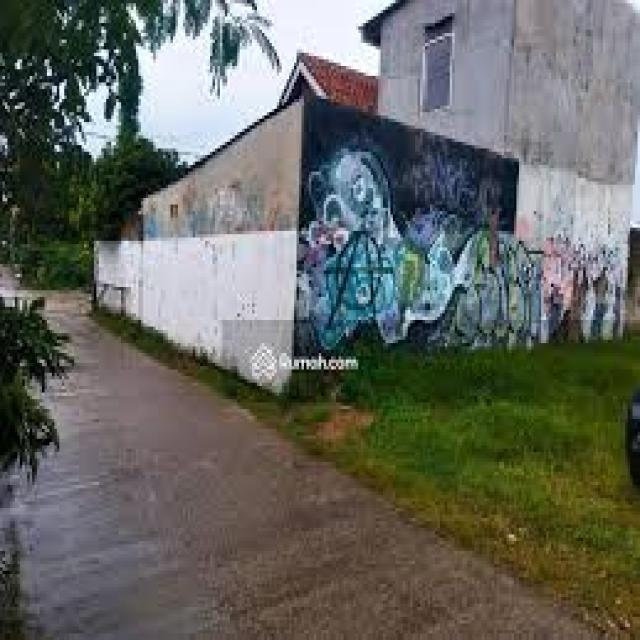-: (302, 144, 620, 348), (180, 180, 290, 236)
